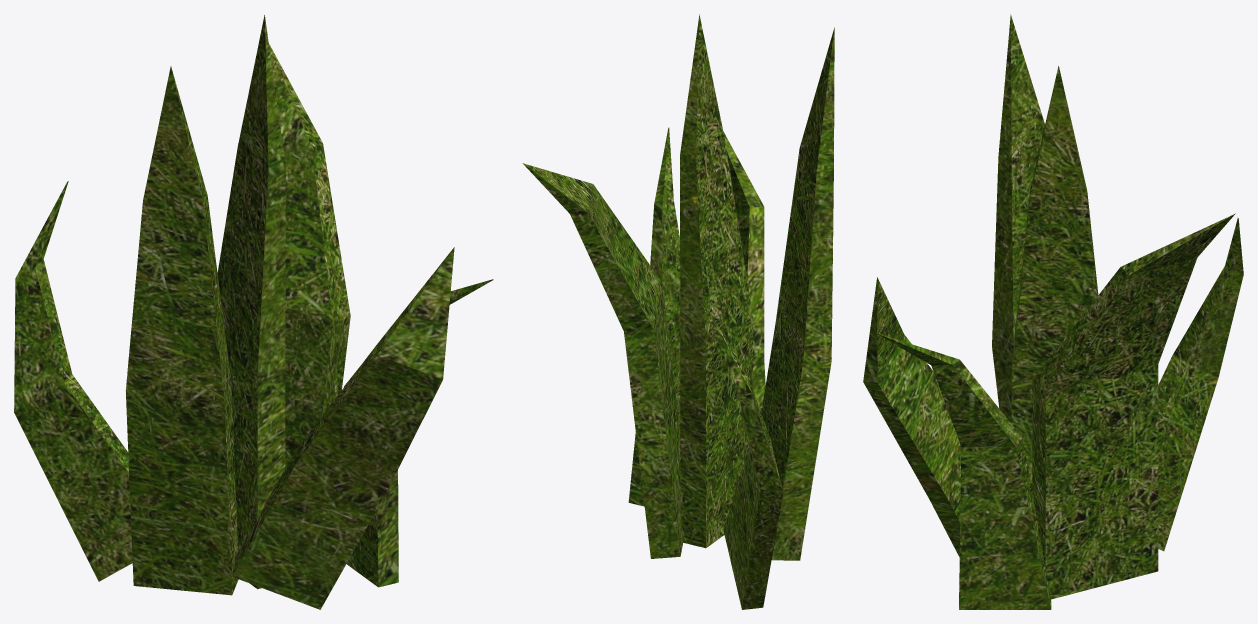
Rendered from Grass.fbx.
The picture shows the model from 3 angles, left to right: view 1: azimuth 30°, elevation 25°; view 2: azimuth 150°, elevation 25°; view 3: azimuth 270°, elevation 25°; orthographic projection. The views are drawn at different scales.
Parts seen in each view (by area): view 1: Grass; view 2: Grass; view 3: Grass.
Part boxes in pixels (x1=…): Grass: x1=14, y1=15, x2=493, y2=609; Grass: x1=522, y1=14, x2=834, y2=609; Grass: x1=863, y1=14, x2=1243, y2=609.
Bounding box in the file's own units: 24.22 × 44.14 × 28.57.
